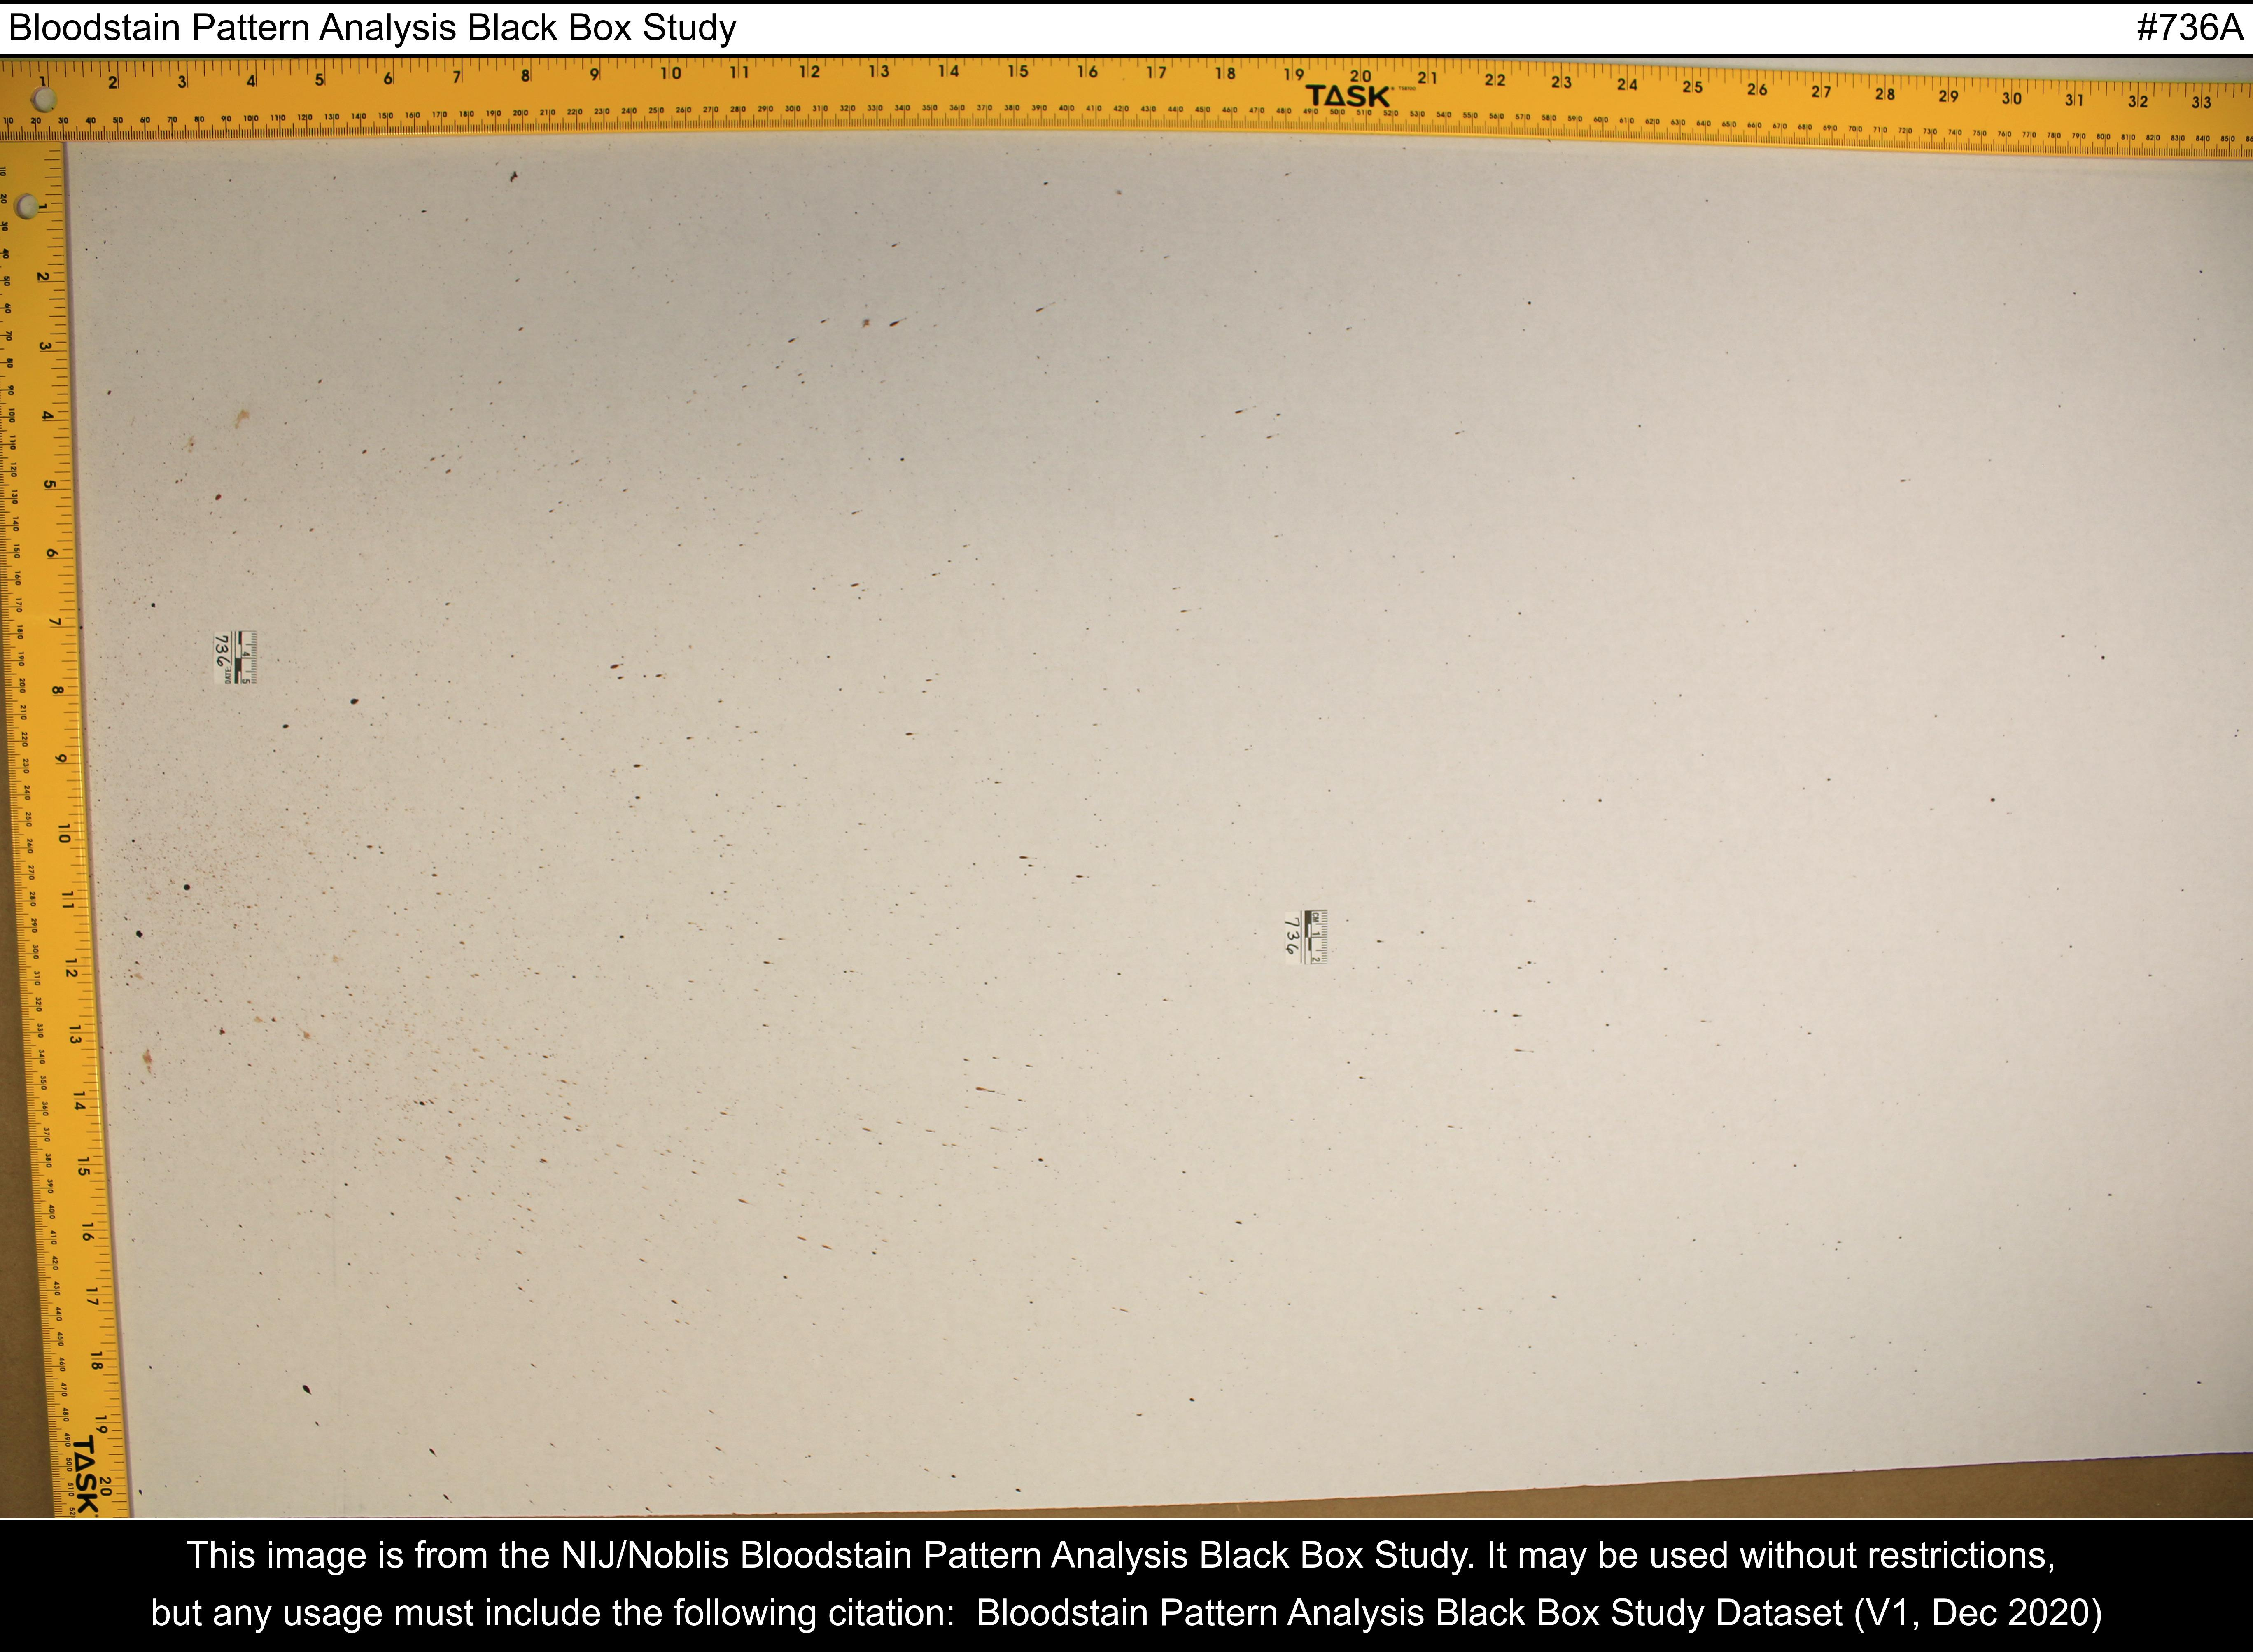Impact: (110, 756, 511, 1113), (553, 273, 976, 525), (1452, 889, 1609, 1099)
